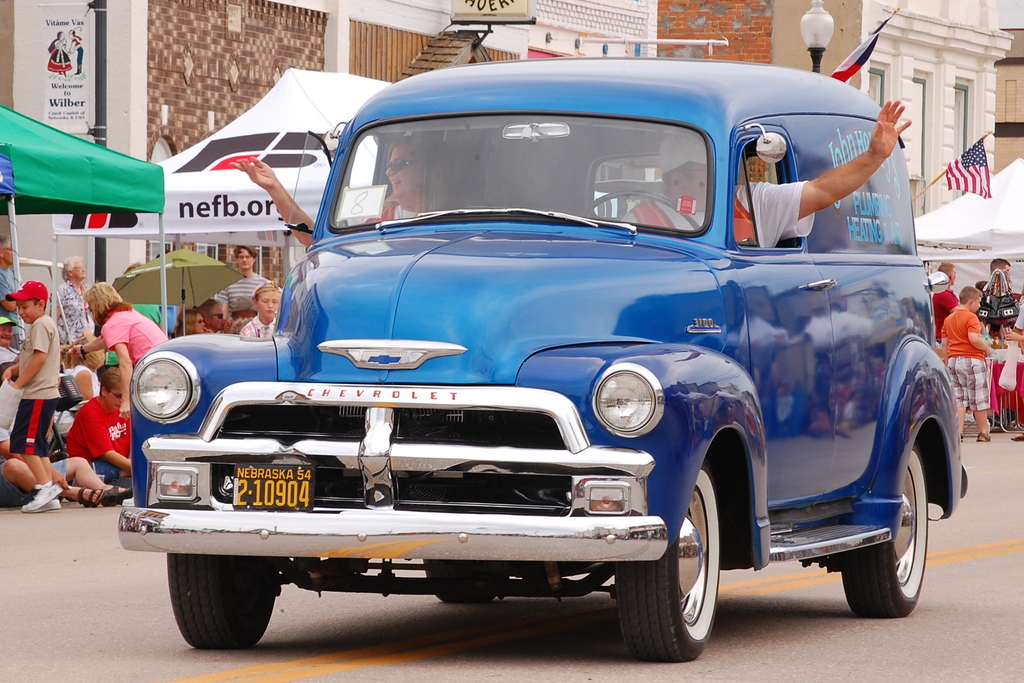Person: (0, 99, 1023, 513), (0, 236, 282, 513), (45, 31, 71, 76), (68, 25, 83, 73)
